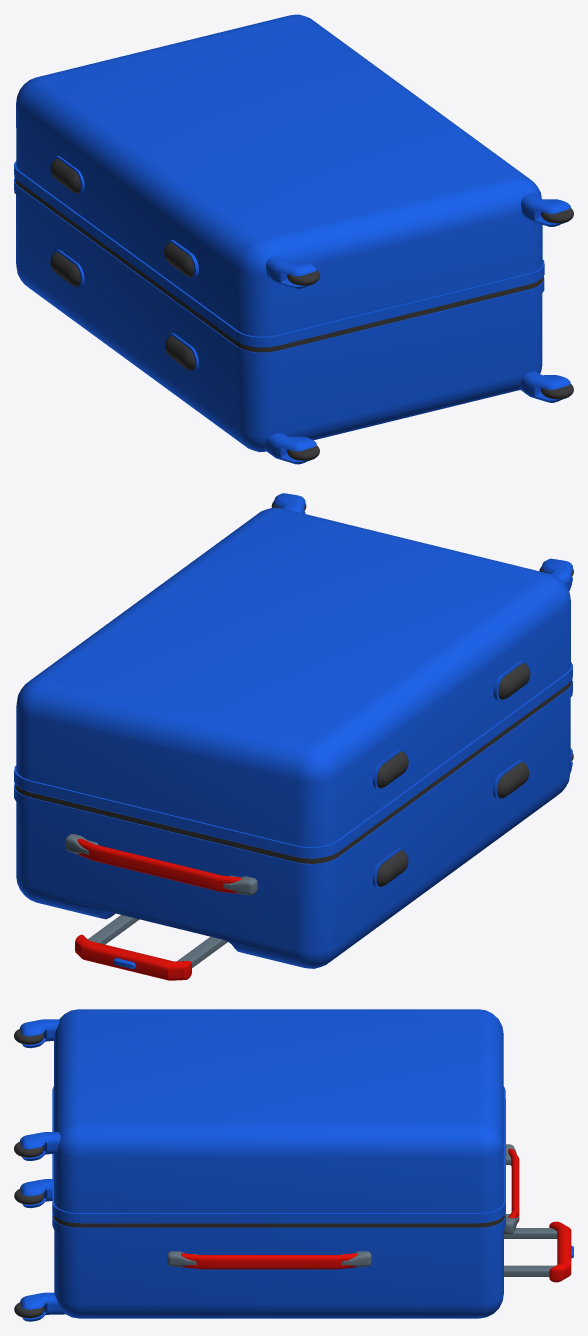
File: SUITECASE 1 .fbx
3 views of the same model, one above another, from view 1: azimuth 30°, elevation 25°; view 2: azimuth 150°, elevation 25°; view 3: azimuth 270°, elevation 25° (orthographic). The views are drawn at different scales.
Parts seen in each view (by area): view 1: β.001, β; view 2: β.001, β; view 3: β.001, β.
Boxes of the visible parts, x1,y1,x2,y2 form: β.001: [14, 14, 573, 347]; β: [14, 174, 573, 464]; β.001: [14, 493, 573, 858]; β: [14, 680, 573, 980]; β.001: [14, 1009, 505, 1222]; β: [14, 1099, 573, 1321].
Size of the model in its own units: 223 by 139 by 366.
